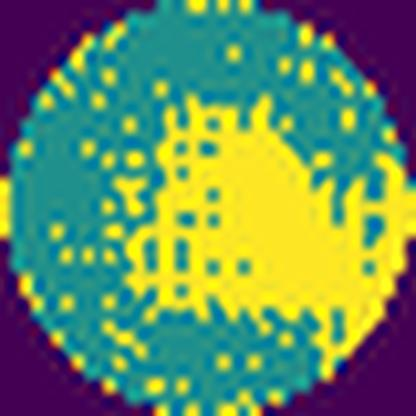Loc: (124, 91, 416, 360)
